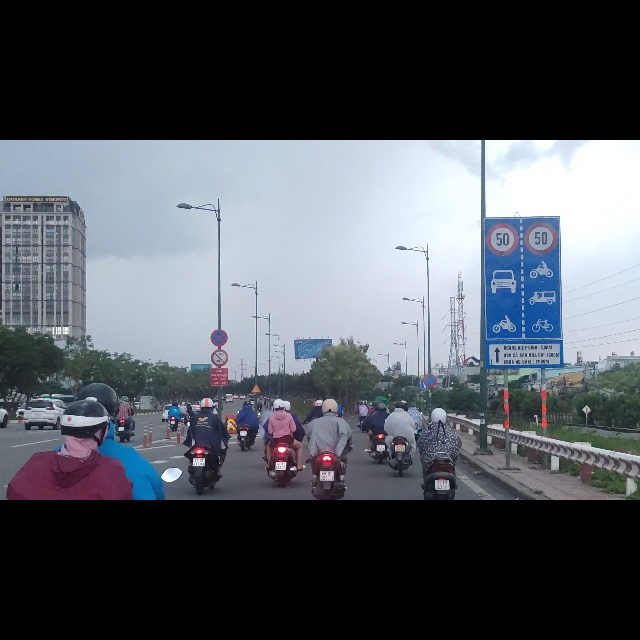bien_nguy_hiem: (484, 209, 563, 353), (486, 148, 520, 206), (524, 145, 557, 204), (210, 336, 228, 367), (211, 372, 228, 402), (423, 415, 437, 440), (251, 433, 262, 450)
